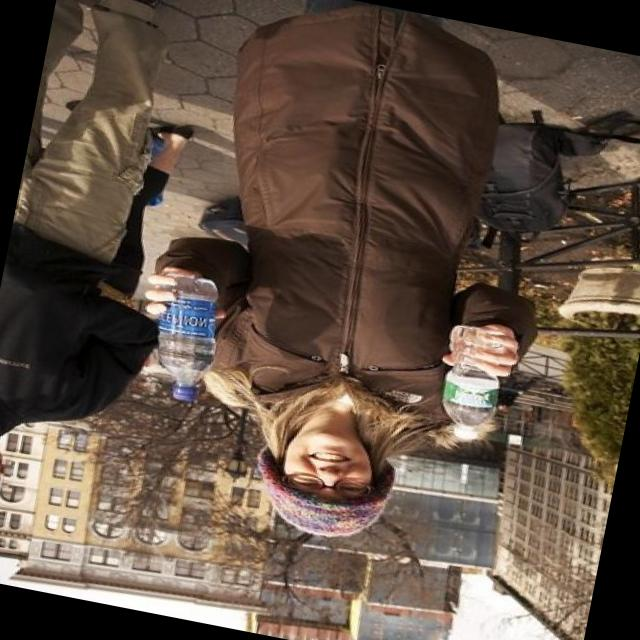plastic_bottle: (140, 270, 229, 405), (432, 322, 510, 442)
